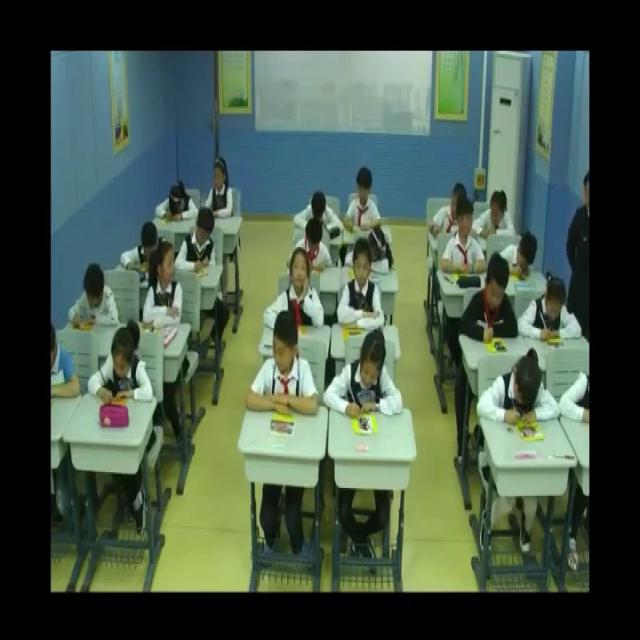distracted: (245, 312, 322, 430), (264, 247, 327, 329), (442, 194, 487, 280), (145, 240, 182, 331)
focused: (322, 323, 404, 425), (474, 351, 558, 425), (89, 319, 153, 412), (461, 254, 518, 347), (518, 271, 584, 350), (339, 242, 385, 336), (69, 261, 121, 334), (174, 208, 217, 278), (344, 165, 382, 235), (290, 191, 346, 238), (427, 181, 471, 236), (291, 217, 334, 269), (502, 233, 543, 285), (474, 192, 516, 242), (155, 181, 202, 225), (205, 156, 236, 222), (122, 224, 166, 270)
